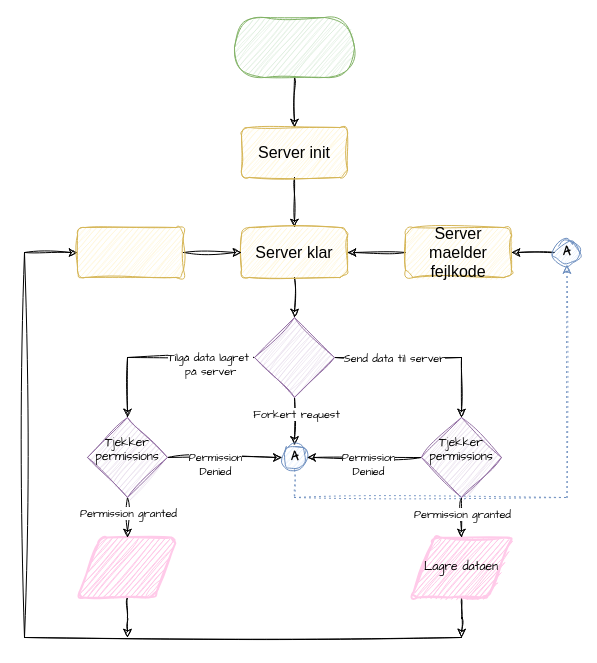
Image size: 597x663. Some labels were removed from this diagram. Each missing label, with the centre of its shape:
Send data til computeren: (127,567)
Server maelder success kode: (130,252)
Server request: (294,357)
START: (294,47)
